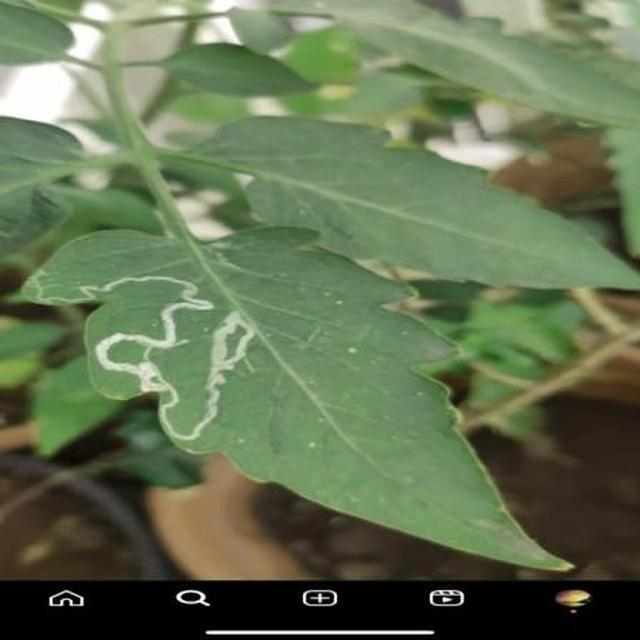Leaf Miner: (424, 247, 640, 573)
